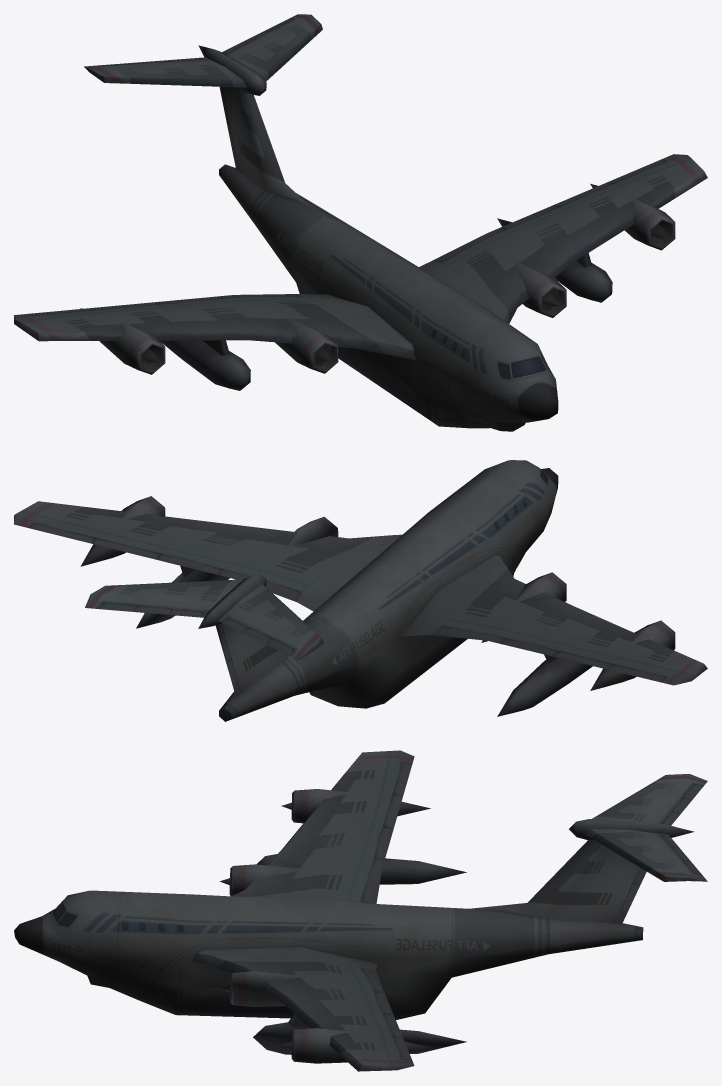
File: wm_transportplane.FBX
The picture shows the model from 3 angles, top to bottom: view 1: azimuth 30°, elevation 25°; view 2: azimuth 150°, elevation 25°; view 3: azimuth 270°, elevation 25°; orthographic projection. The views are drawn at different scales.
Parts seen in each view (by area): view 1: wm_transportplane; view 2: wm_transportplane; view 3: wm_transportplane.
Part boxes in pixels (x1=…): wm_transportplane: x1=14, y1=14, x2=707, y2=431; wm_transportplane: x1=14, y1=460, x2=707, y2=721; wm_transportplane: x1=14, y1=750, x2=707, y2=1071.
Bounding box in the file's own units: 1.05 × 0.2957 × 0.9711.
1 material, 1 textured.
